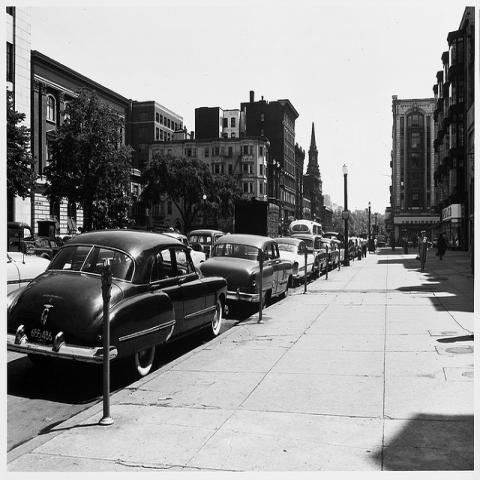bus: (289, 220, 322, 236)
car: (5, 229, 230, 374), (200, 233, 293, 308), (274, 238, 314, 289), (7, 222, 54, 262), (7, 256, 50, 297), (162, 231, 206, 267), (291, 234, 327, 268), (189, 230, 221, 257), (322, 238, 338, 271), (322, 231, 345, 248), (333, 240, 345, 262)
